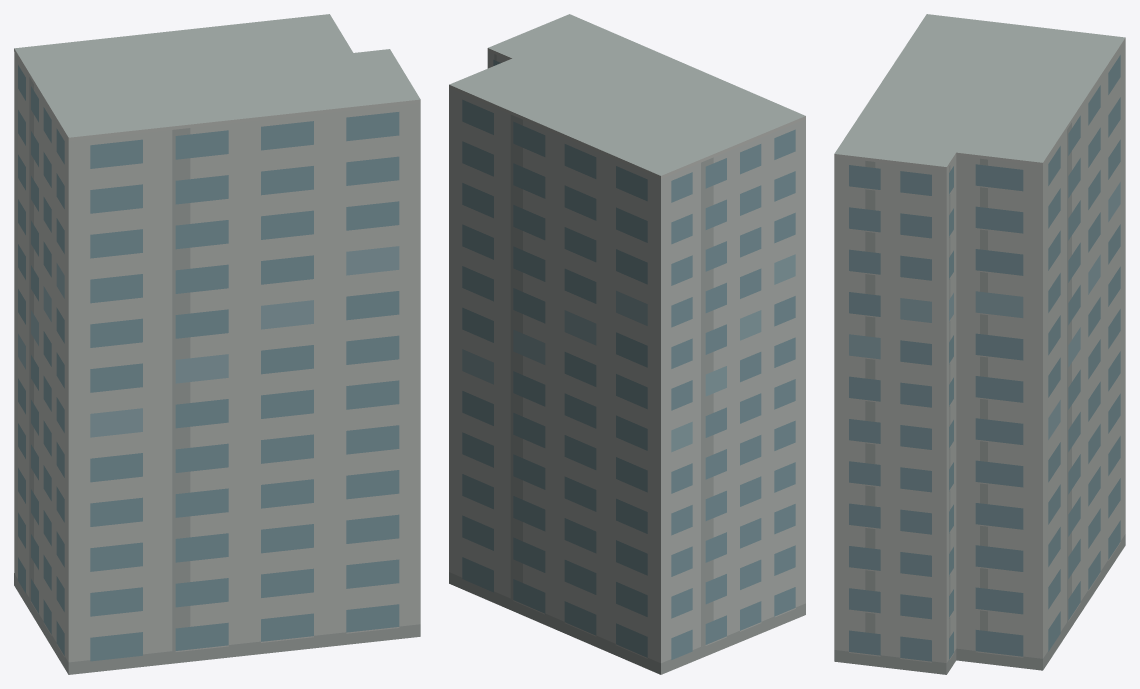
The model's file is residential-74b0856a-7f4e-4ffc-a8c5-cbac8991202a.glb.
3 views of the same model, side by side, from view 1: azimuth 30°, elevation 25°; view 2: azimuth 150°, elevation 25°; view 3: azimuth 270°, elevation 25° (orthographic). The views are drawn at different scales.
Visible parts, largest first — view 1: residential-74b0856a-7f4e-4ffc-a8c5-cbac8991202a.tmp; view 2: residential-74b0856a-7f4e-4ffc-a8c5-cbac8991202a.tmp; view 3: residential-74b0856a-7f4e-4ffc-a8c5-cbac8991202a.tmp.
Part boxes in pixels (left/top/right/bottom): residential-74b0856a-7f4e-4ffc-a8c5-cbac8991202a.tmp: left=14, top=14, right=420, bottom=674; residential-74b0856a-7f4e-4ffc-a8c5-cbac8991202a.tmp: left=449, top=14, right=805, bottom=674; residential-74b0856a-7f4e-4ffc-a8c5-cbac8991202a.tmp: left=834, top=14, right=1125, bottom=674.
Size of the model in its own units: 24.58 by 38 by 19.77.
